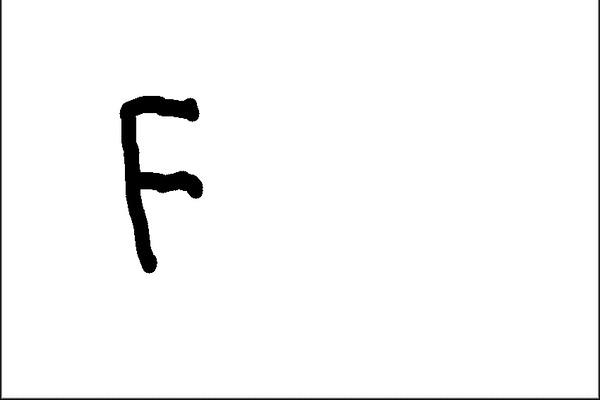F: (115, 92, 208, 277)
